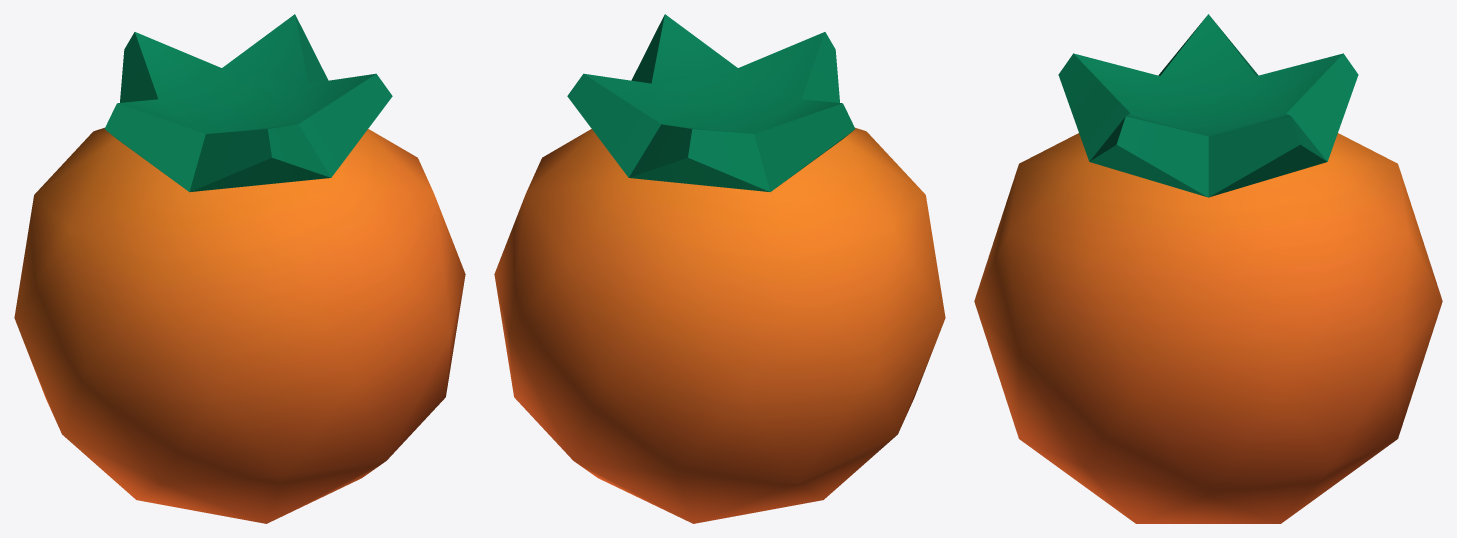
File: food_berry_orange.glb
3 renders of one model, left to right at view 1: azimuth 30°, elevation 25°; view 2: azimuth 150°, elevation 25°; view 3: azimuth 270°, elevation 25°, orthographic.
Visible parts, largest first — view 1: Food_Berry_Orange; view 2: Food_Berry_Orange; view 3: Food_Berry_Orange.
Part boxes in pixels (x1,y1,x2,y2): Food_Berry_Orange: (14, 14, 465, 523); Food_Berry_Orange: (494, 14, 945, 523); Food_Berry_Orange: (974, 14, 1442, 523).
Size of the model in its own units: 0.234 by 0.2578 by 0.2461.
Materials: 1 (1 with a texture image).
